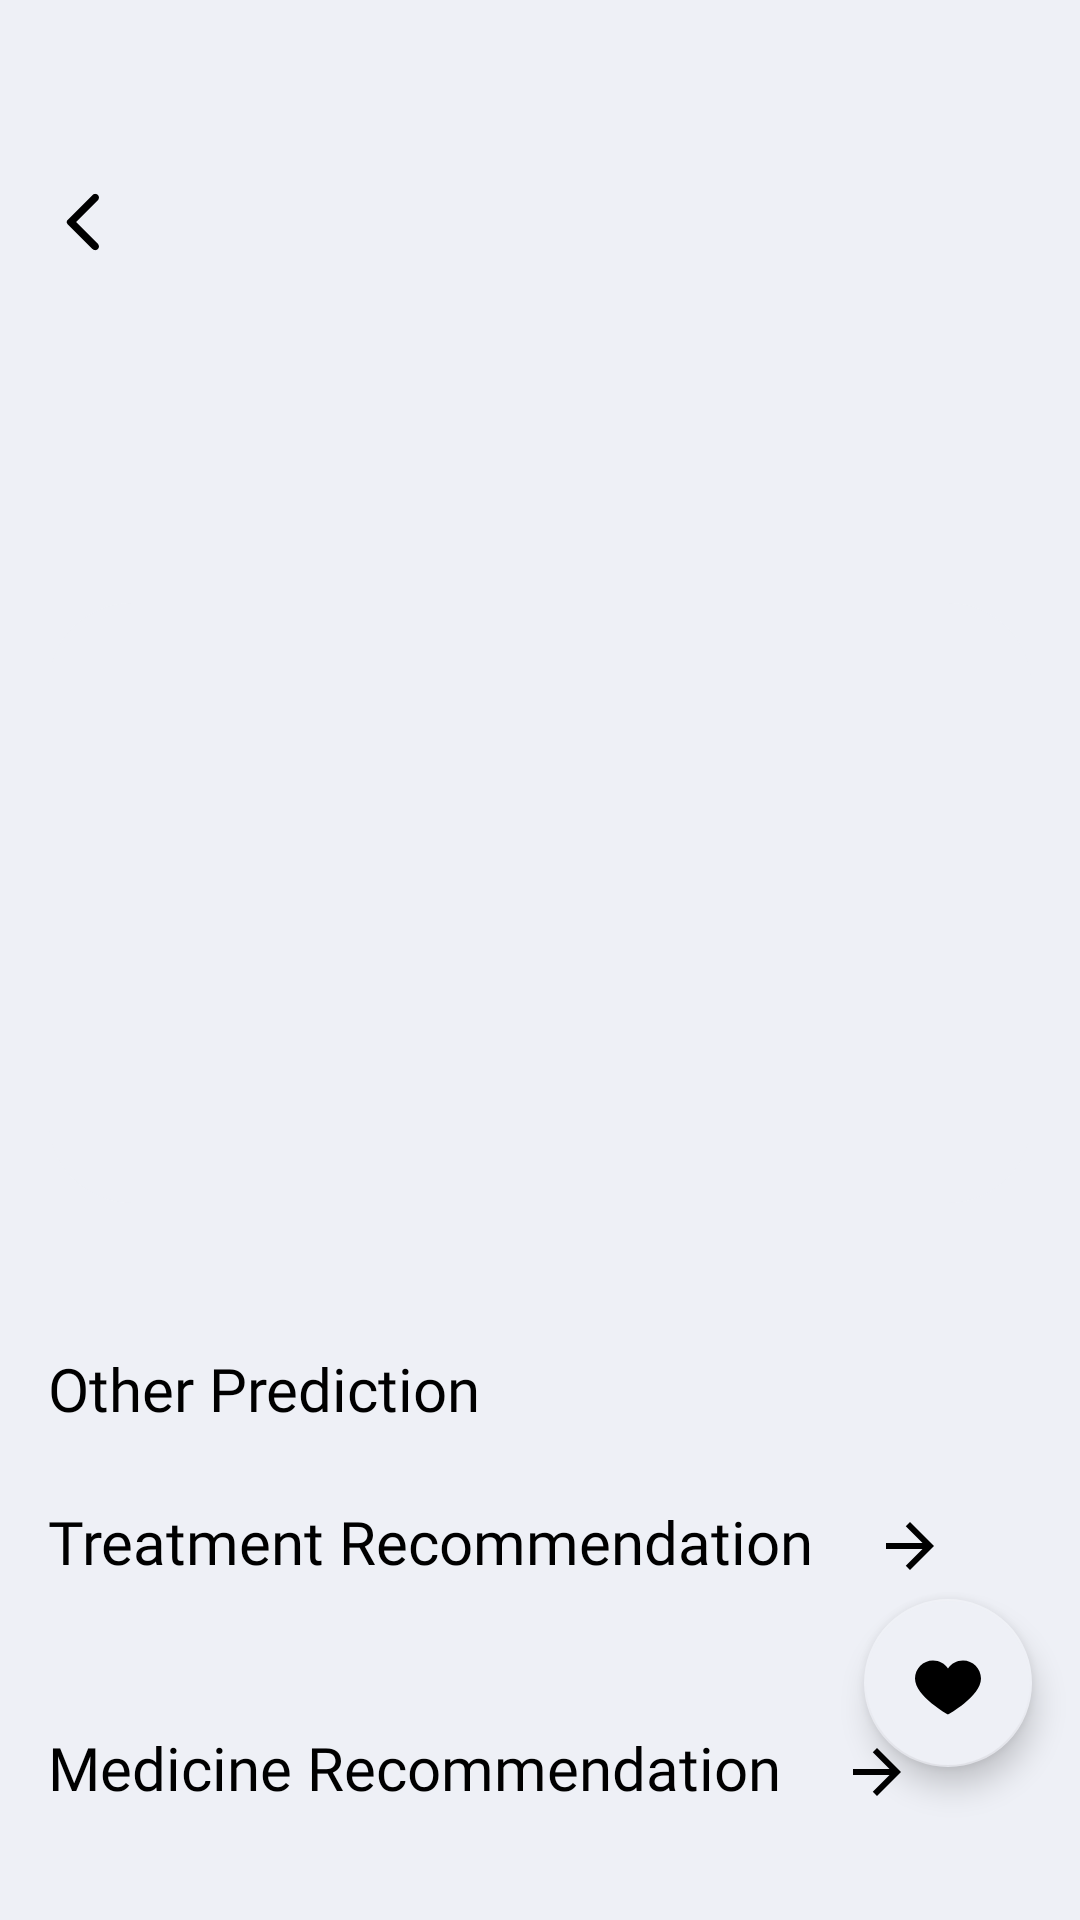

Screen size 1080×1920. Icon name, then its center in pixels as (x,y):
arrow back: (82,222)
arrow right: (910,1546), (877,1772)
floating like button: (925,1688)
